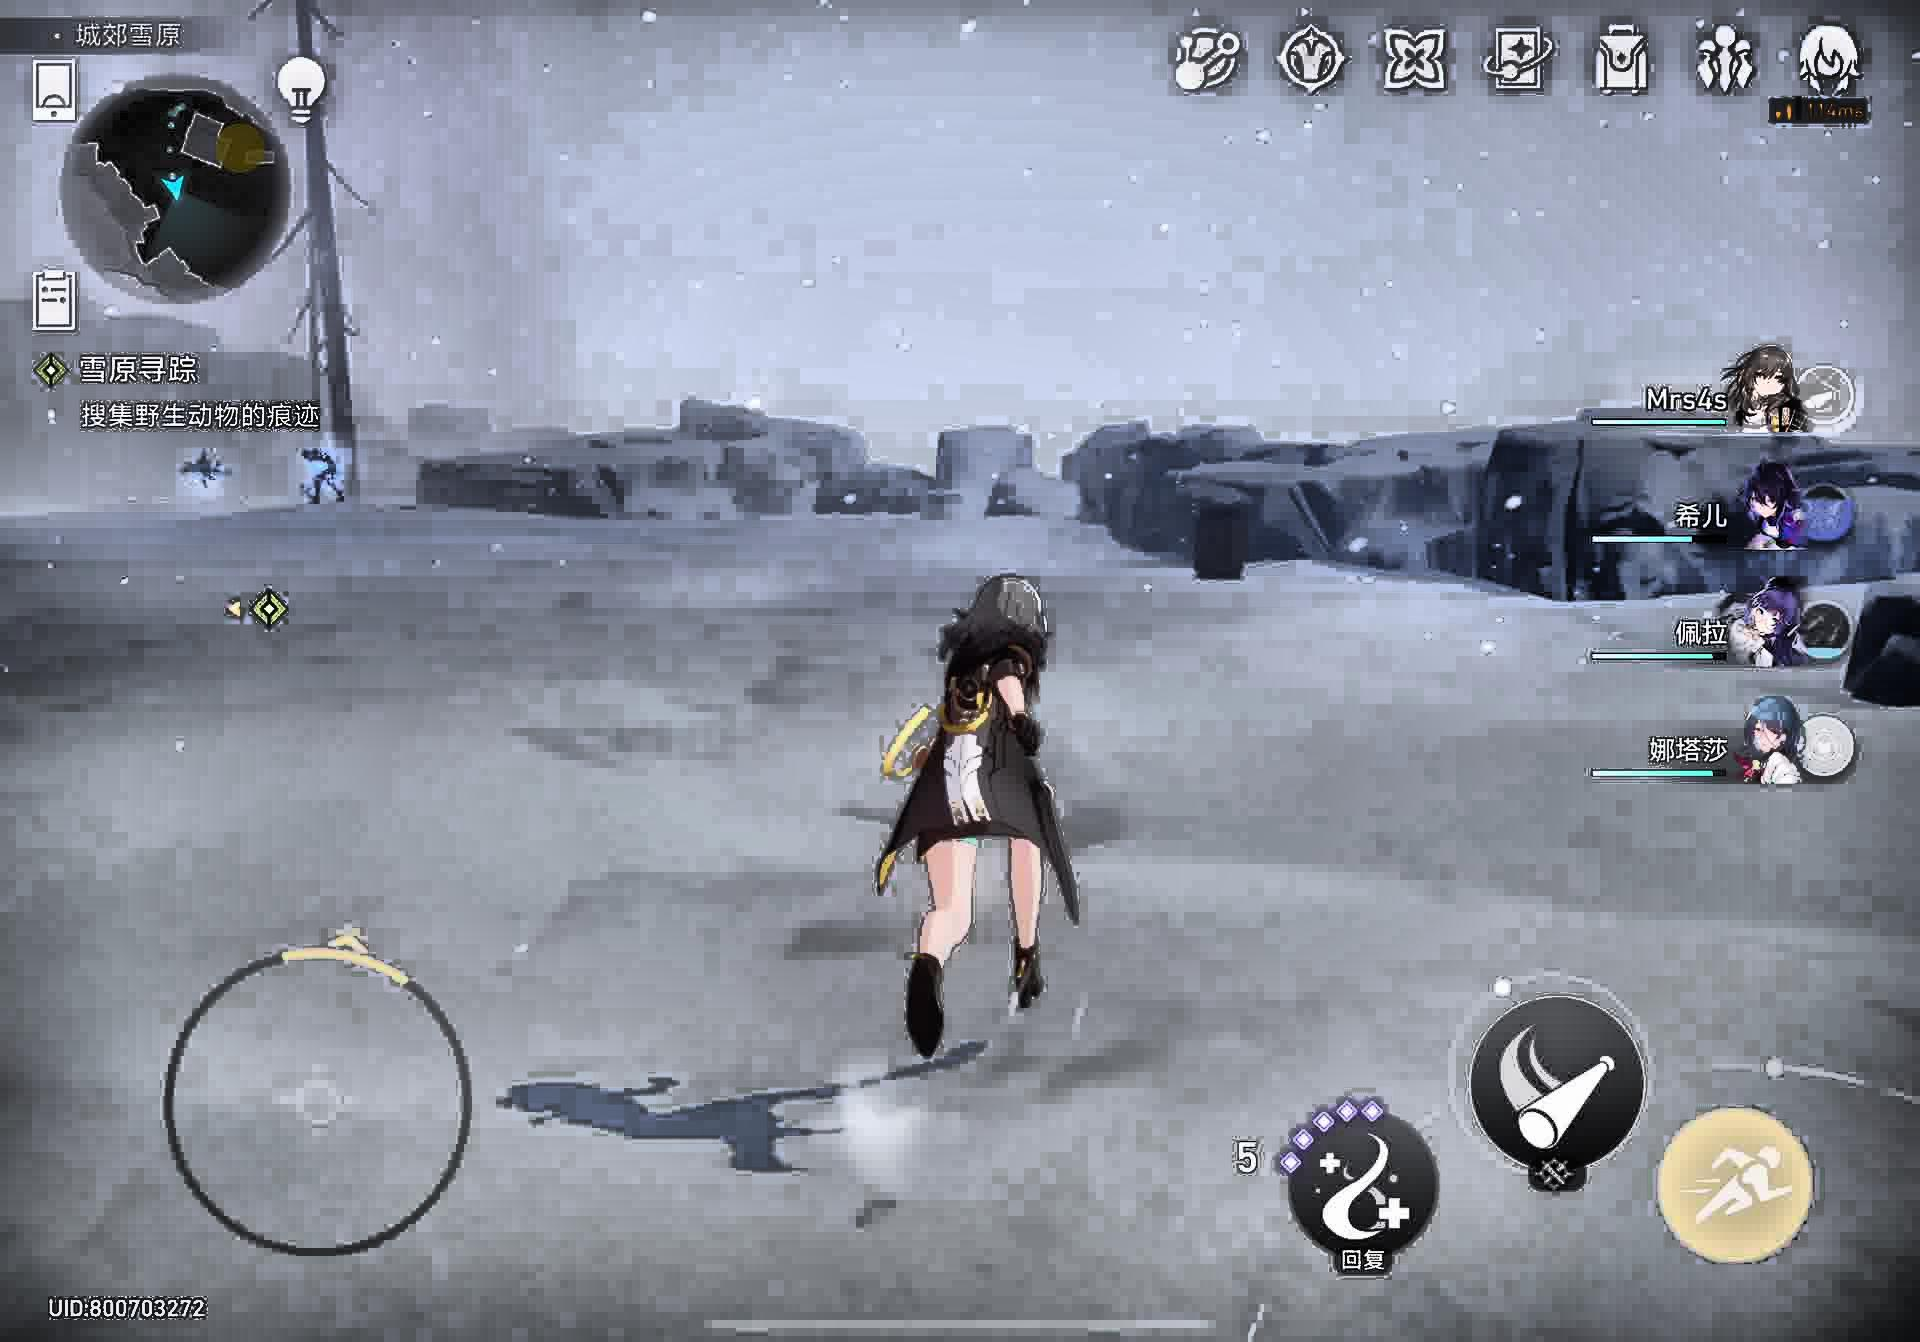Box: (1192, 500, 1258, 582)
Enemy: (177, 443, 239, 511), (295, 448, 350, 518)
Self: (874, 566, 1091, 1082)
